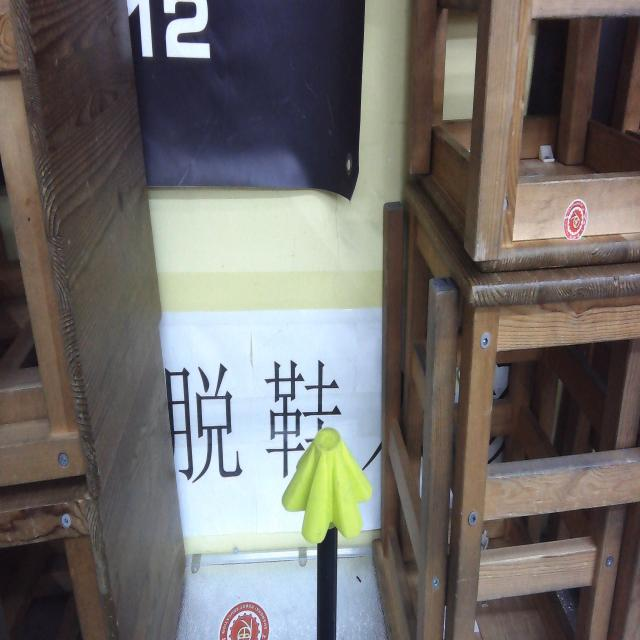Yellow-Stake-Head: (280, 426, 372, 548)
